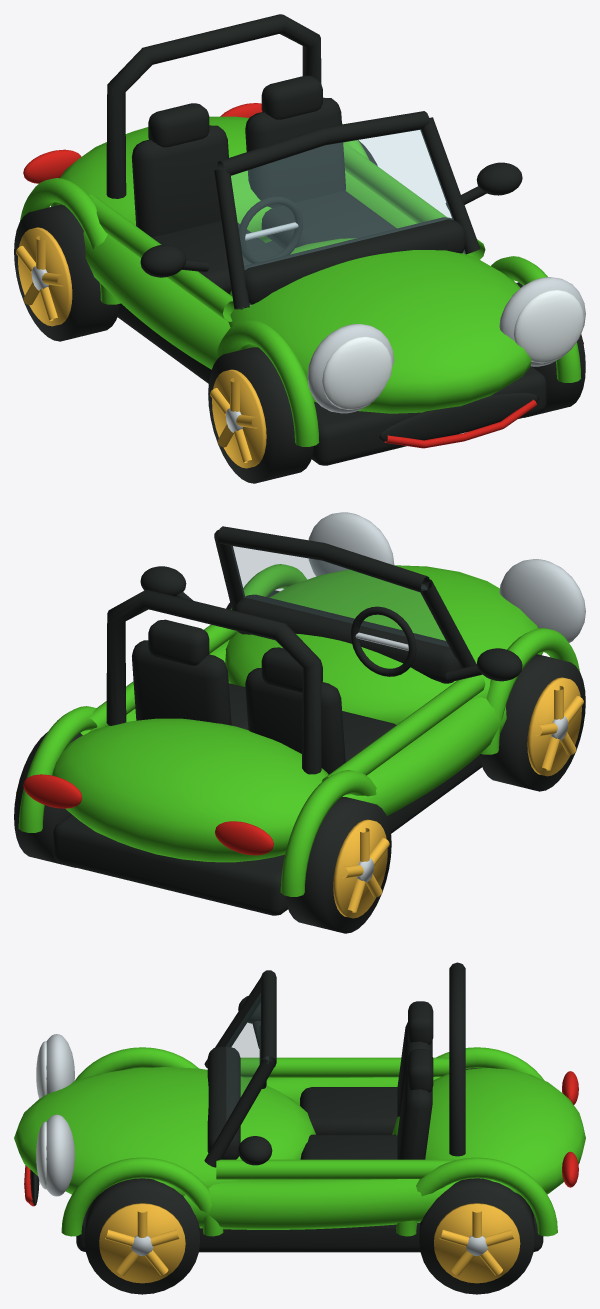
The model's file is frog_convertible.glb.
3 renders of one model, top to bottom at view 1: azimuth 30°, elevation 25°; view 2: azimuth 150°, elevation 25°; view 3: azimuth 270°, elevation 25°, orthographic. The views are drawn at different scales.
Parts seen in each view (by area): view 1: Hood, Windshield, Seat back, Sculpted sill, Rear rollover, Seat back.001, Undertray, Dashboard, Tire, Tire.001, Rear deck, Seat cushion.001 (+25 smaller); view 2: Rear deck, Hood, Undertray, Windshield, Rear rollover, Sculpted sill, Seat back.001, Tire.001, Tire, Dashboard, Seat back, Lamp surround (+22 smaller); view 3: Hood, Rear deck, Sculpted sill.001, Undertray, Tire.002, Tire.003, Door waist.001, Wheel arch.002, Seat cushion, Alloy.002, Alloy.003, Wheel arch.003 (+21 smaller).
Part boxes in pixels (<box>): Hood: <box>228,238,531,413</box>; Windshield: <box>231,130,465,305</box>; Seat back: <box>131,125,228,237</box>; Sculpted sill: <box>83,231,230,369</box>; Rear rollover: <box>106,14,321,198</box>; Seat back.001: <box>245,97,345,207</box>; Undertray: <box>117,240,546,465</box>; Dashboard: <box>244,217,465,304</box>; Tire: <box>208,347,313,483</box>; Tire.001: <box>14,204,119,341</box>; Rear deck: <box>51,116,271,242</box>; Seat cushion.001: <box>261,190,396,248</box>; Rear deck: <box>52,718,328,862</box>; Hood: <box>225,565,542,724</box>; Undertray: <box>53,754,481,915</box>; Windshield: <box>231,546,448,646</box>; Rear rollover: <box>106,590,321,774</box>; Sculpted sill: <box>342,697,506,815</box>; Seat back.001: <box>132,640,231,725</box>; Tire.001: <box>285,796,391,933</box>; Tire: <box>480,654,585,791</box>; Dashboard: <box>234,594,461,683</box>; Seat back: <box>245,668,345,774</box>; Lamp surround: <box>499,559,585,642</box>; Hood: <box>14,1067,315,1195</box>; Rear deck: <box>392,1068,585,1195</box>; Sculpted sill.001: <box>183,1179,459,1229</box>; Undertray: <box>76,1210,543,1252</box>; Tire.002: <box>84,1178,199,1294</box>; Tire.003: <box>419,1178,534,1294</box>; Door waist.001: <box>216,1159,456,1179</box>; Wheel arch.002: <box>61,1157,223,1236</box>; Seat cushion: <box>300,1087,397,1134</box>; Alloy.002: <box>99,1203,185,1283</box>; Alloy.003: <box>434,1203,520,1283</box>; Wheel arch.003: <box>396,1157,557,1236</box>.
Bounding box in the file's own units: 0.966 × 0.6739 × 1.47.
